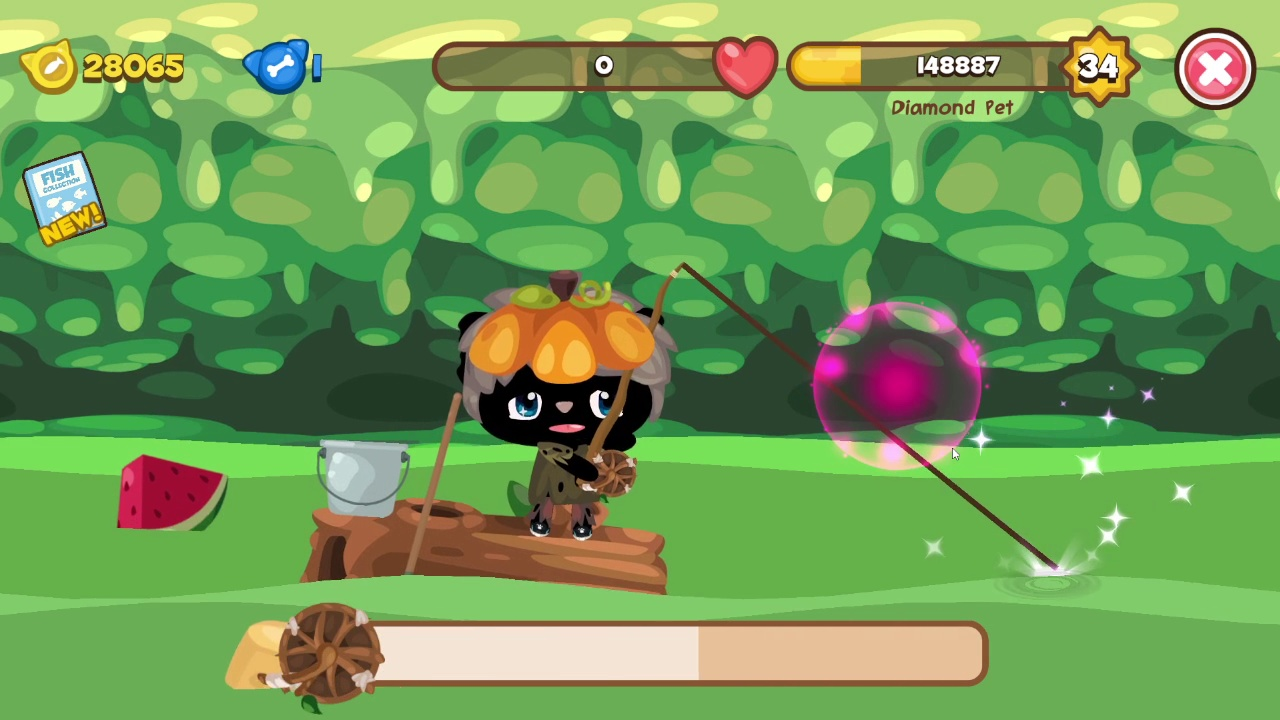point: (810, 298, 987, 471)
